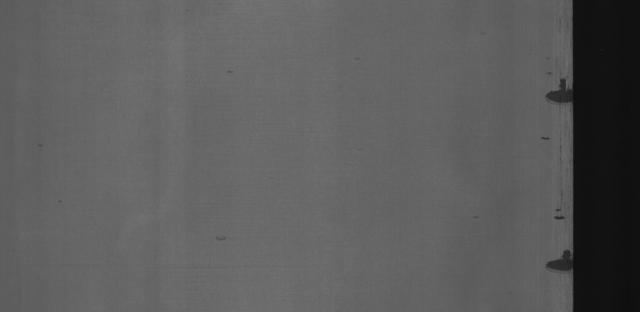oil_spot: (535, 64, 573, 113), (543, 237, 575, 286)
